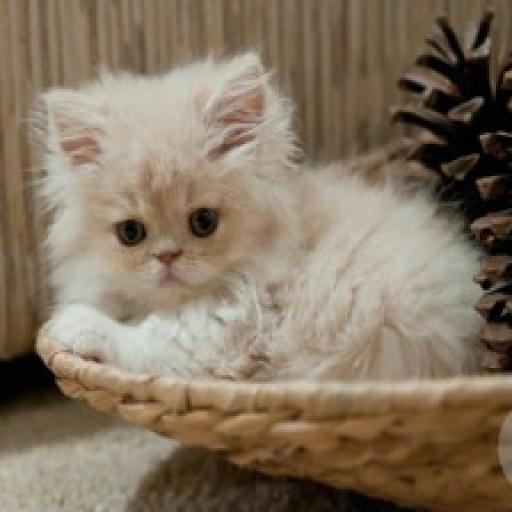cat: (20, 42, 470, 398)
